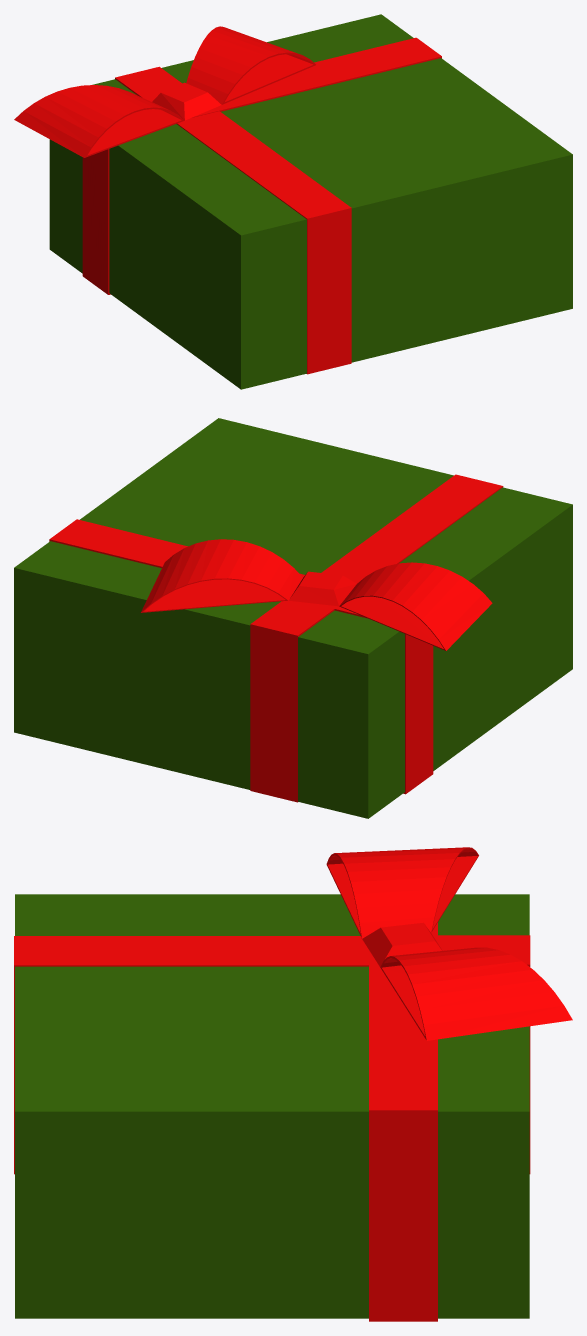
The model's file is Prop_Christmas_Present_Green_01.FBX.
The picture shows the model from 3 angles, top to bottom: view 1: azimuth 30°, elevation 25°; view 2: azimuth 150°, elevation 25°; view 3: azimuth 270°, elevation 25°; orthographic projection. The views are drawn at different scales.
Visible parts, largest first — view 1: Prop_Christmas_Present_Green_01; view 2: Prop_Christmas_Present_Green_01; view 3: Prop_Christmas_Present_Green_01.
Boxes of the visible parts, x1,y1,x2,y2 form: Prop_Christmas_Present_Green_01: [14, 14, 572, 389]; Prop_Christmas_Present_Green_01: [14, 418, 572, 818]; Prop_Christmas_Present_Green_01: [14, 847, 572, 1321].
Size of the model in its own units: 387 by 178 by 360.
